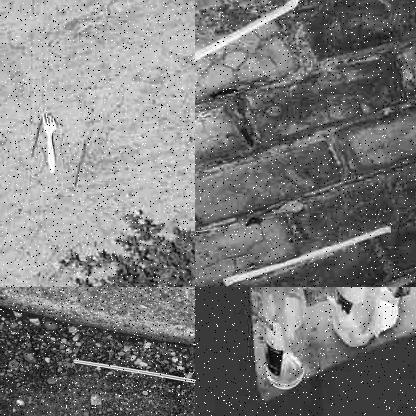glass: (261, 287, 311, 389), (337, 287, 391, 341)
plastic: (214, 220, 396, 286), (195, 0, 307, 98), (69, 357, 194, 390), (39, 114, 66, 178)
